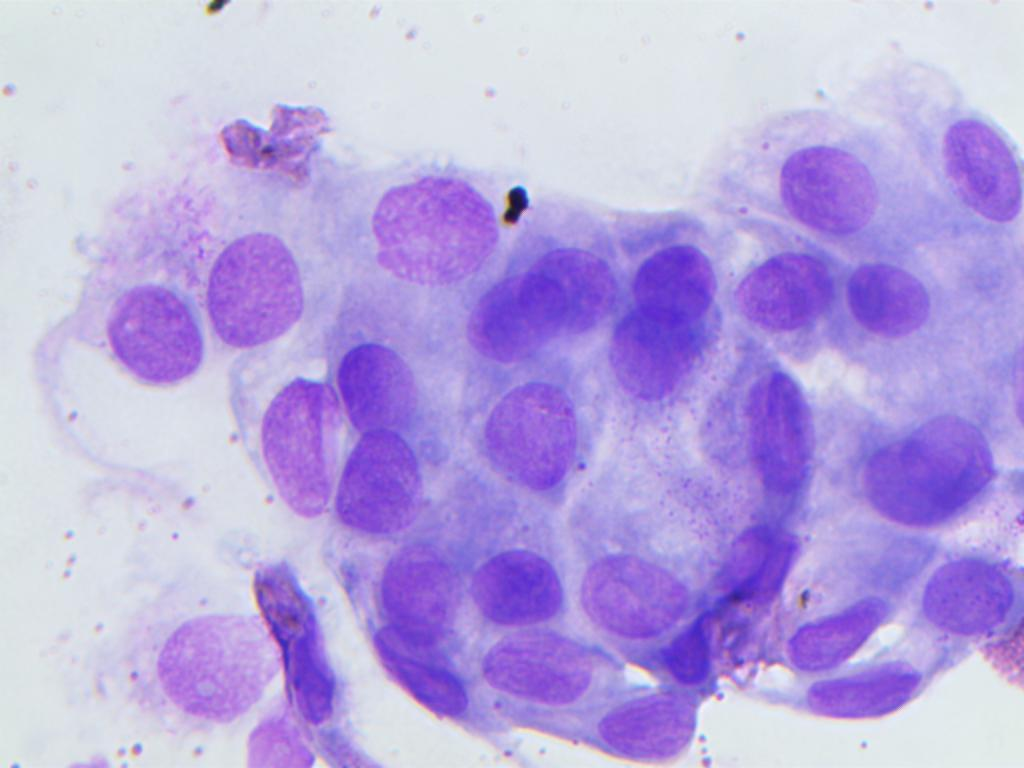artifact: (208, 86, 330, 196), (497, 174, 541, 226)
epithelial: (608, 224, 727, 417), (845, 399, 1018, 531), (354, 157, 509, 288), (756, 103, 901, 239), (202, 205, 318, 362), (917, 66, 1023, 233), (458, 367, 585, 504), (732, 360, 836, 514), (244, 383, 339, 538), (141, 614, 272, 722), (786, 648, 937, 740), (88, 274, 205, 387), (567, 539, 692, 644), (588, 668, 729, 761), (471, 619, 611, 707), (775, 580, 906, 670), (520, 216, 613, 341), (724, 233, 831, 340), (835, 245, 941, 349), (333, 435, 434, 540), (446, 271, 566, 359), (905, 551, 1024, 636), (460, 531, 568, 624), (338, 333, 436, 430), (232, 713, 328, 768)
